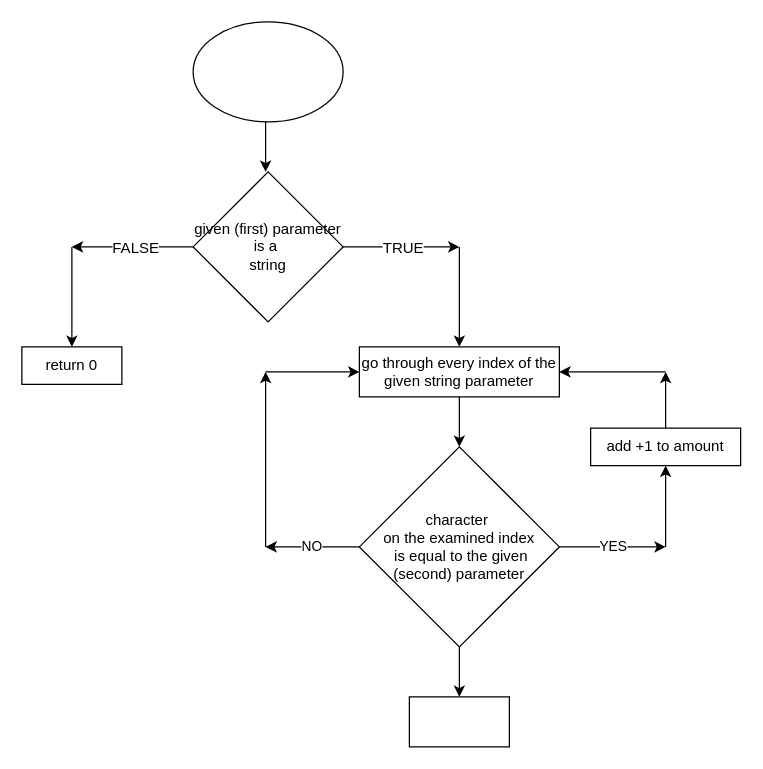
Some shapes in this 763 by 769 pixel diagram are drawn without their labels. The shapes that lost their labels are listed below. From the top down, each one's centre as x and y in pixels, then its label:
the point at 267,71: Function starts with 2 parameter
the point at 458,721: return amount
